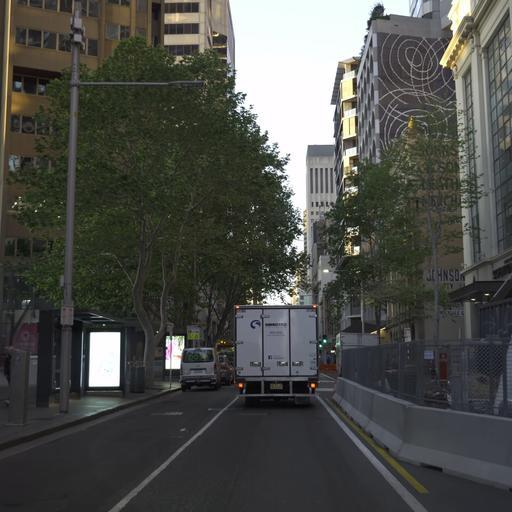Street light: (56, 6, 206, 413), (322, 268, 364, 340), (70, 78, 205, 89)
